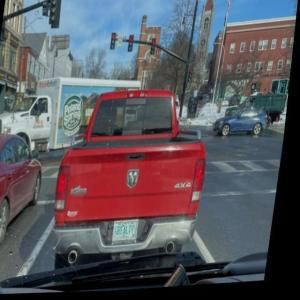Plate: (112, 220, 138, 240)
